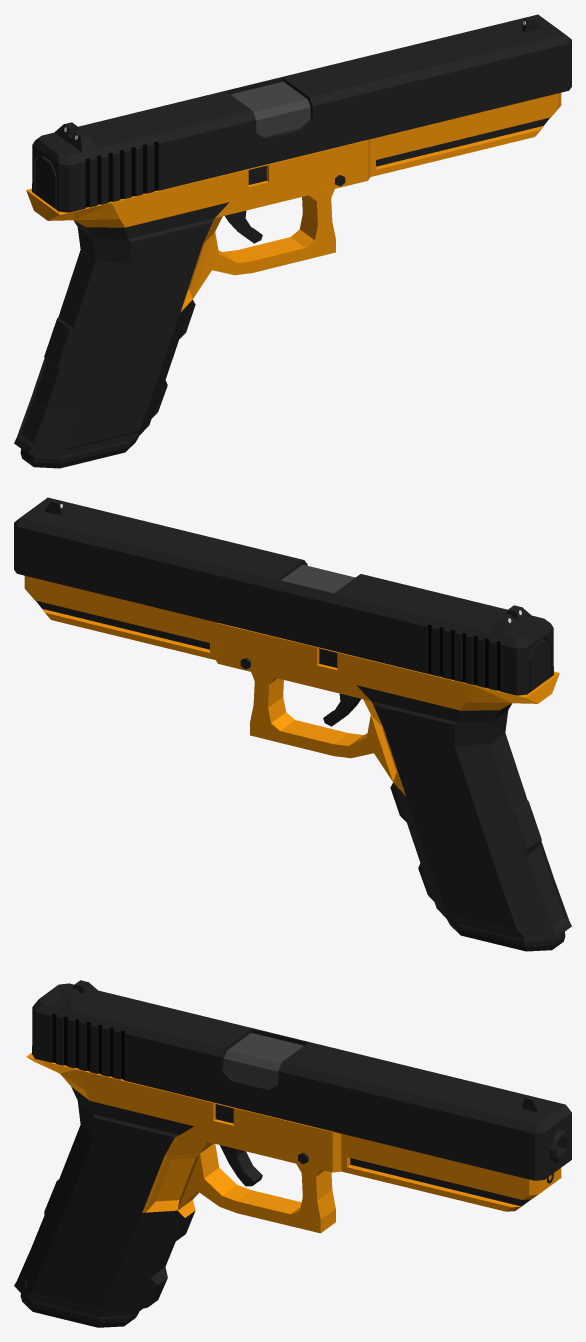
File: Glock Model.fbx
3 renders of one model, top to bottom at view 1: azimuth 30°, elevation 25°; view 2: azimuth 150°, elevation 25°; view 3: azimuth 330°, elevation 25°, orthographic.
Visible parts, largest first — view 1: Body, Slider, Ammo Clip, Trigger; view 2: Body, Slider, Ammo Clip, Trigger; view 3: Body, Slider, Ammo Clip, Trigger.
Part boxes in pixels (left/top/right/bottom): Body: left=14, top=81, right=561, bottom=456; Slider: left=32, top=14, right=571, bottom=212; Ammo Clip: left=20, top=436, right=138, bottom=468; Trigger: left=225, top=210, right=262, bottom=243; Body: left=24, top=564, right=571, bottom=939; Slider: left=14, top=497, right=553, bottom=695; Ammo Clip: left=447, top=919, right=565, bottom=951; Trigger: left=323, top=693, right=360, bottom=726; Body: left=14, top=1033, right=568, bottom=1316; Slider: left=32, top=980, right=571, bottom=1180; Ammo Clip: left=20, top=1293, right=138, bottom=1327; Trigger: left=220, top=1145, right=262, bottom=1186.
Size of the model in its own units: 905 by 515 by 111.
